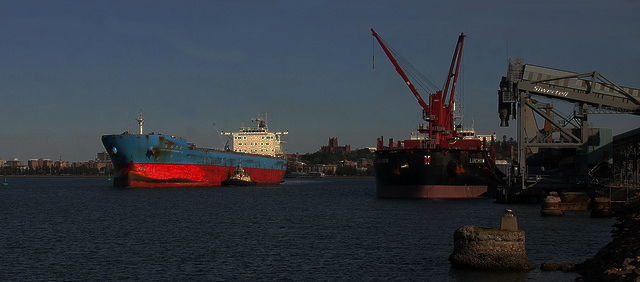bulk carrier: (101, 110, 291, 185)
tug_boat: (221, 150, 258, 187)
